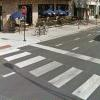Crosswalk: (8, 42, 95, 100)
